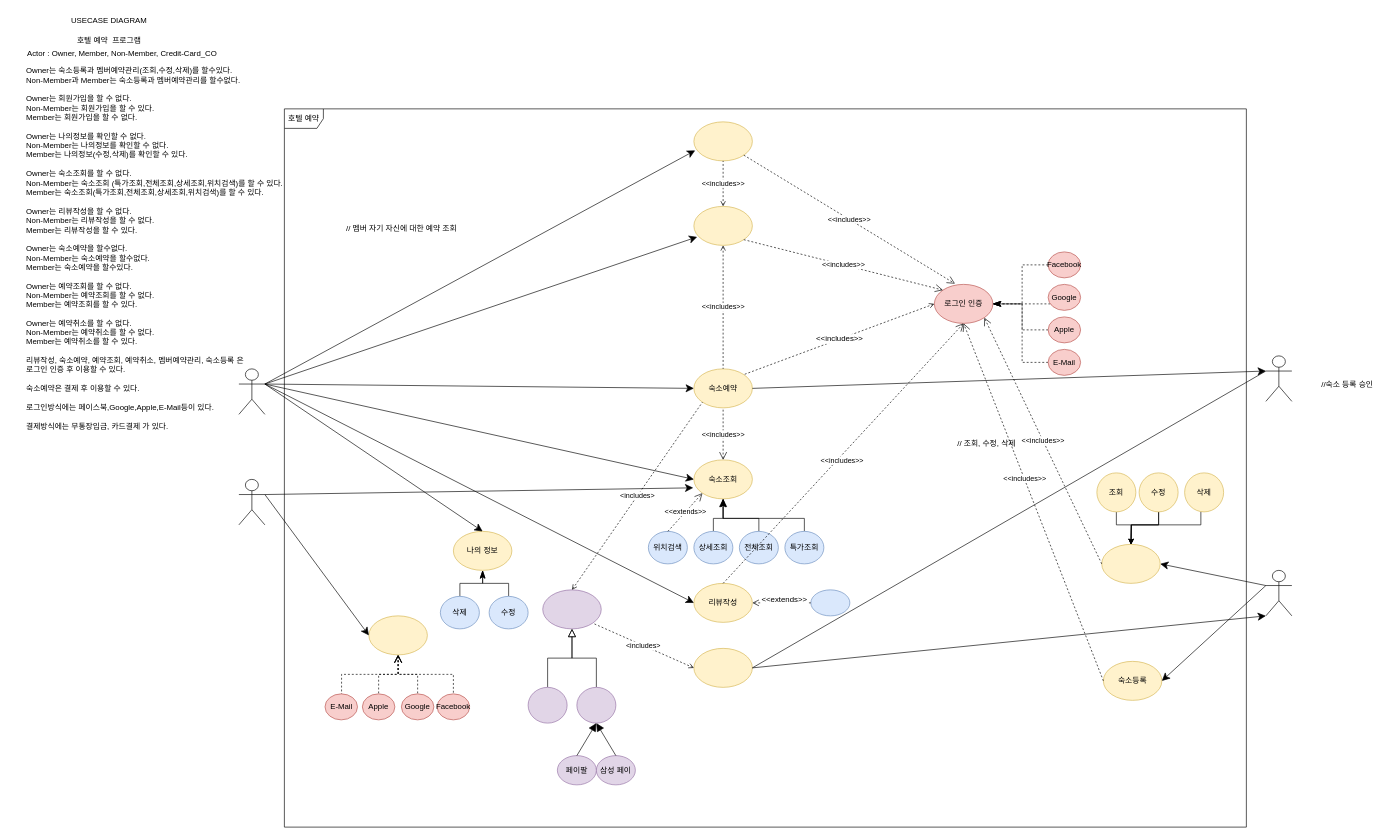
The diagram is 1394 pixels wide and 838 high, and some of its shapes have lost their labels. The shapes that lost their labels are listed below. From the top down, each one's centre as x and y in pixels, then its label:
At (x=722, y=141): "예약취소".
At (x=722, y=225): "예약조회".
At (x=251, y=391): "Member".
At (x=1278, y=378): "Admin".
At (x=251, y=502): "Non-Member".
At (x=1130, y=563): "멤버 예약 관리".
At (x=571, y=609): "결제".
At (x=830, y=602): "사진등록".
At (x=1278, y=593): "Owner".
At (x=397, y=635): "회원가입".
At (x=722, y=667): "숙소 예약 요총".
At (x=547, y=705): "무통장".
At (x=596, y=705): "카드".
